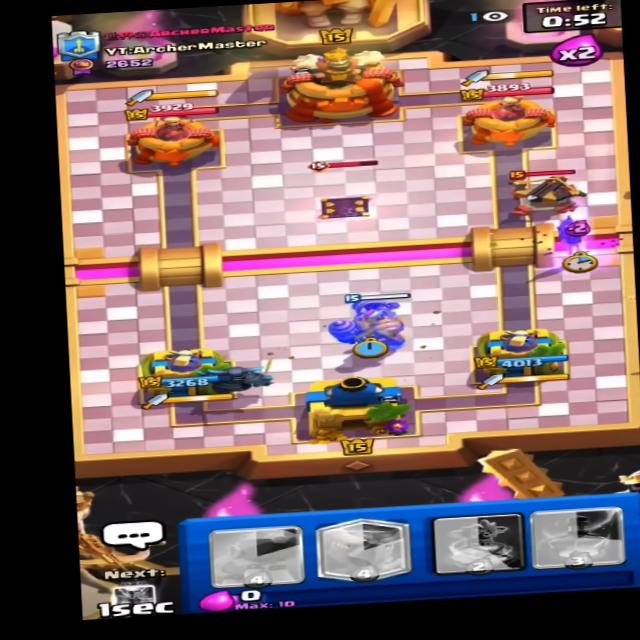Evoteslahidden: (297, 154, 390, 222)
Xbow: (492, 161, 595, 222)
